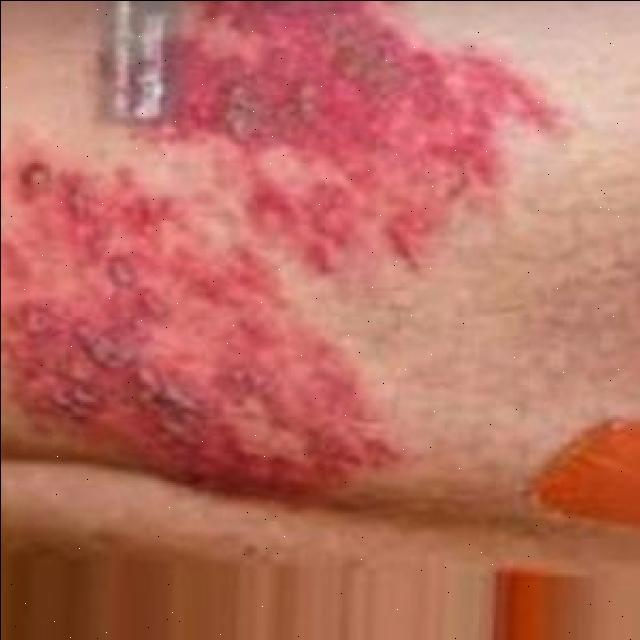Shingles: (0, 151, 390, 512), (140, 0, 557, 277)
